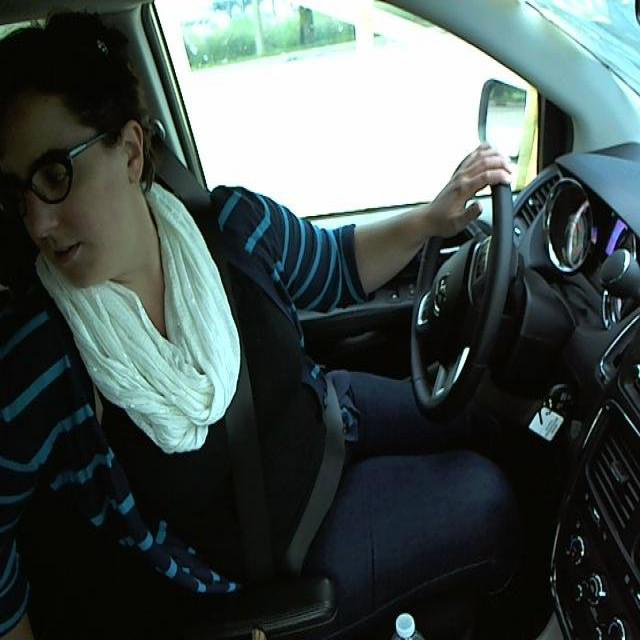seatbelt: (195, 209, 343, 563)
